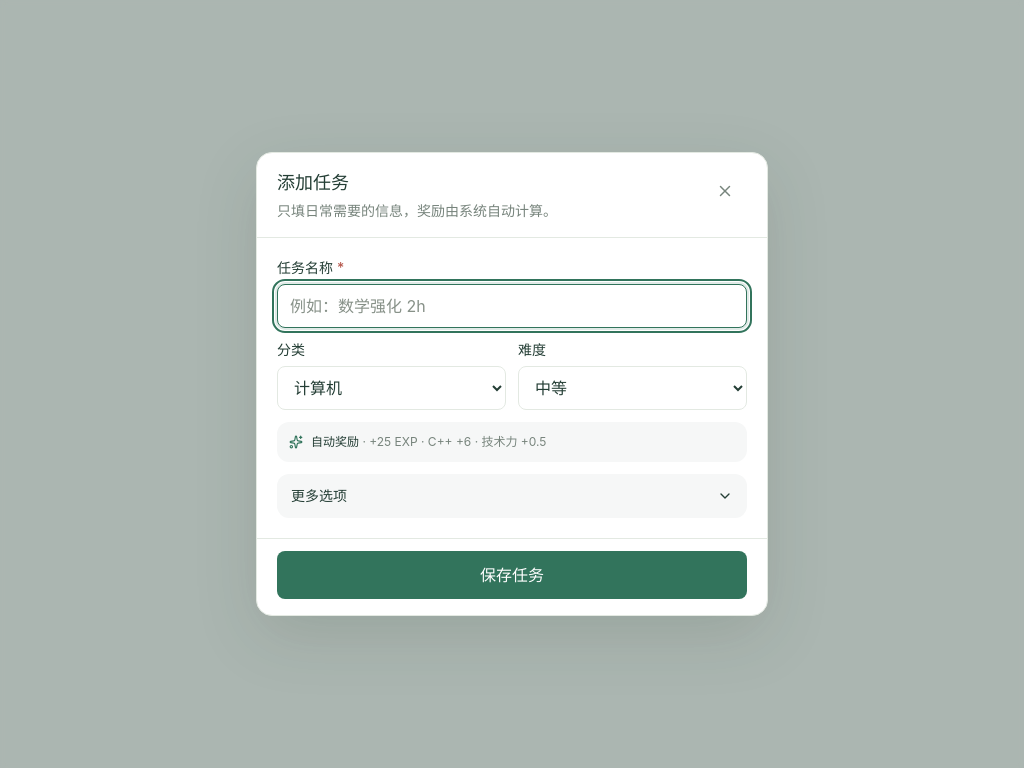
Test case: 精简 CRUD 表单 › 任务首屏只展示名称、分类、难度、紧凑奖励和更多选项
Expected: the field labelled "任务名称*" is shown, x1=277 y1=284 x2=747 y2=328
Expected: the dropdown labelled "分类" is shown, x1=277 y1=366 x2=506 y2=410
Click the heading "更多选项" at (319, 496), box x1=291 y1=486 x2=733 y2=506
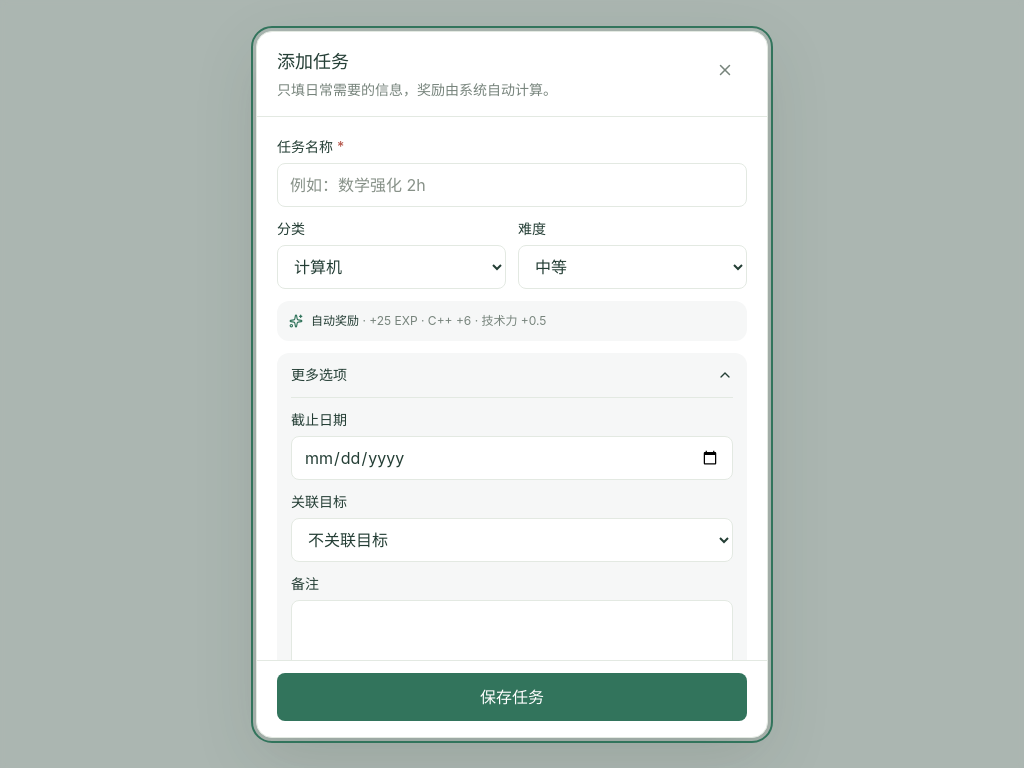
Expected: the date field labelled "截止日期" is shown, x1=291 y1=436 x2=733 y2=480
Expected: the dropdown labelled "关联目标" is shown, x1=291 y1=518 x2=733 y2=562
Expected: the text box labelled "备注" is shown, x1=291 y1=600 x2=733 y2=659
